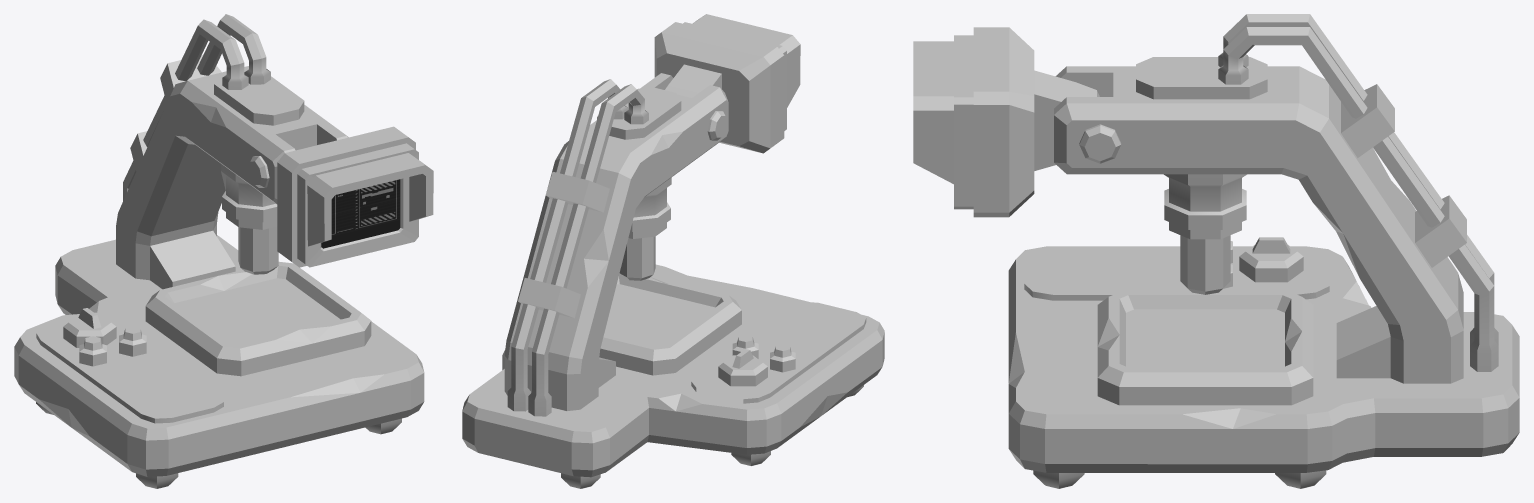
File: SM_Prop_Microscope_01.fbx
3 renders of one model, left to right at view 1: azimuth 30°, elevation 25°; view 2: azimuth 150°, elevation 25°; view 3: azimuth 270°, elevation 25°, orthographic. The views are drawn at different scales.
Visible parts, largest first — view 1: SM_Prop_Microscope_01, SM_Prop_Microscope_01_Screen_01; view 2: SM_Prop_Microscope_01; view 3: SM_Prop_Microscope_01.
Boxes of the visible parts, box(x1,y1,x2,y2) form: SM_Prop_Microscope_01: box(14, 14, 433, 488); SM_Prop_Microscope_01_Screen_01: box(321, 179, 400, 248); SM_Prop_Microscope_01: box(462, 14, 884, 488); SM_Prop_Microscope_01: box(913, 14, 1519, 488).
Bounding box in the file's own units: 33.59 × 38.25 × 49.43.
